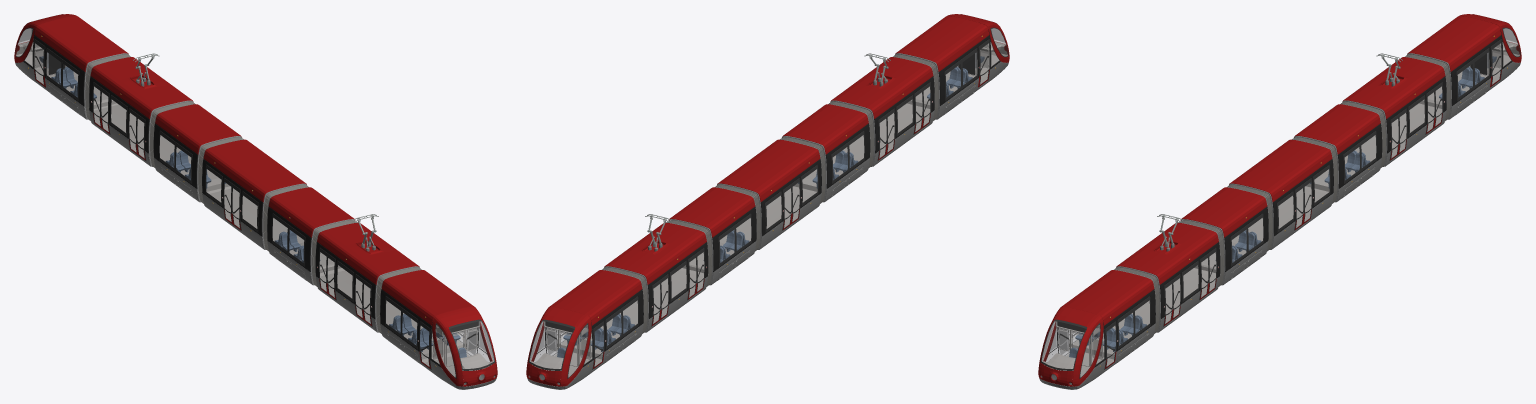
The model's file is metro.gltf.
3 renders of one model, left to right at view 1: azimuth 30°, elevation 25°; view 2: azimuth 150°, elevation 25°; view 3: azimuth 330°, elevation 25°, orthographic.
Visible parts, largest first — view 1: Object__0, Object__2, Object__3, Object__11, Object__8, Object__10, Object__9, Object__7, Object__4, Object__13, Object__12, Object__1 (+3 smaller); view 2: Object__0, Object__3, Object__2, Object__11, Object__10, Object__8, Object__9, Object__4, Object__7, Object__13, Object__14, Object__1 (+3 smaller); view 3: Object__0, Object__2, Object__3, Object__11, Object__8, Object__10, Object__9, Object__7, Object__4, Object__13, Object__12, Object__1 (+3 smaller).
Part boxes in pixels (x1=…): Object__0: x1=153, y1=104, x2=355, y2=285; Object__2: x1=315, y1=223, x2=497, y2=389; Object__3: x1=14, y1=14, x2=193, y2=166; Object__11: x1=16, y1=29, x2=493, y2=377; Object__8: x1=319, y1=248, x2=495, y2=378; Object__10: x1=15, y1=14, x2=146, y2=160; Object__9: x1=159, y1=131, x2=305, y2=266; Object__7: x1=148, y1=100, x2=243, y2=203; Object__4: x1=251, y1=183, x2=357, y2=286; Object__13: x1=165, y1=150, x2=320, y2=262; Object__12: x1=389, y1=314, x2=466, y2=357; Object__1: x1=28, y1=36, x2=495, y2=384; Object__0: x1=668, y1=104, x2=870, y2=285; Object__3: x1=526, y1=223, x2=708, y2=389; Object__2: x1=830, y1=14, x2=1009, y2=166; Object__11: x1=530, y1=29, x2=1007, y2=377; Object__10: x1=528, y1=248, x2=704, y2=378; Object__8: x1=877, y1=14, x2=1008, y2=160; Object__9: x1=718, y1=131, x2=864, y2=266; Object__4: x1=780, y1=100, x2=875, y2=203; Object__7: x1=666, y1=183, x2=772, y2=286; Object__13: x1=703, y1=150, x2=858, y2=262; Object__14: x1=557, y1=314, x2=634, y2=357; Object__1: x1=528, y1=36, x2=995, y2=384; Object__0: x1=1180, y1=104, x2=1382, y2=285; Object__2: x1=1038, y1=223, x2=1220, y2=389; Object__3: x1=1342, y1=14, x2=1521, y2=166; Object__11: x1=1042, y1=29, x2=1519, y2=377; Object__8: x1=1040, y1=248, x2=1216, y2=378; Object__10: x1=1389, y1=14, x2=1520, y2=160; Object__9: x1=1230, y1=131, x2=1376, y2=266; Object__7: x1=1292, y1=100, x2=1387, y2=203; Object__4: x1=1178, y1=183, x2=1284, y2=286; Object__13: x1=1215, y1=150, x2=1370, y2=262; Object__12: x1=1069, y1=314, x2=1146, y2=357; Object__1: x1=1040, y1=36, x2=1507, y2=384.
Size of the model in its own units: 73.86 by 130 by 1175.
